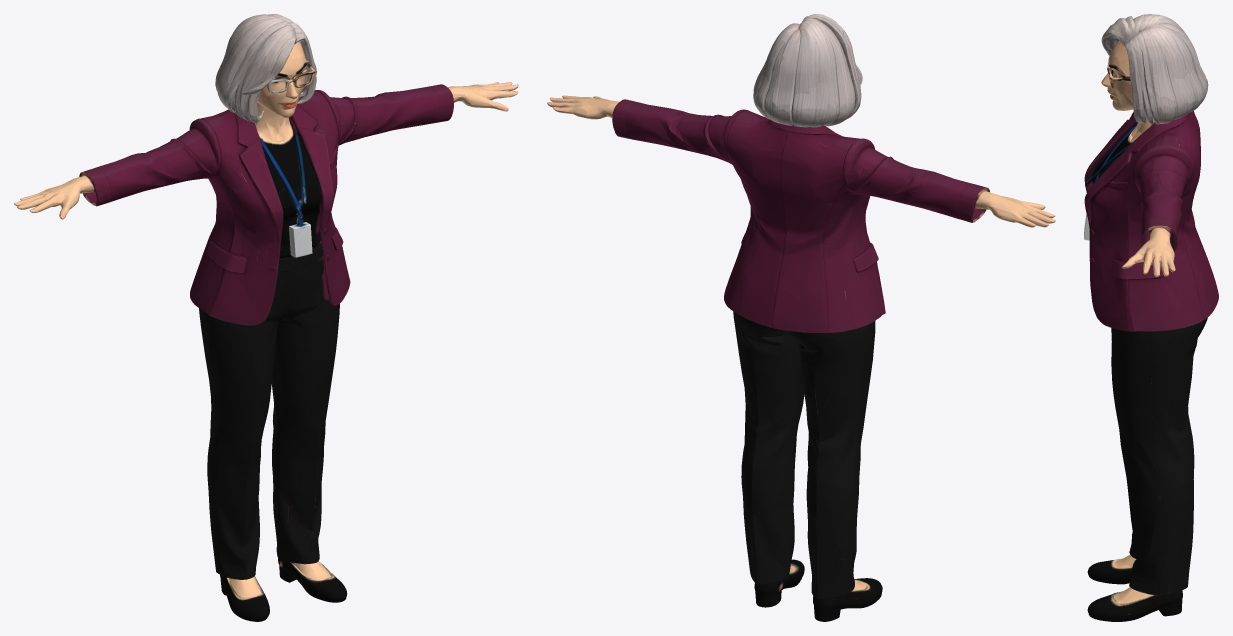
Rendered from ModuleLead_Meshy71_v001.glb.
The picture shows the model from 3 angles, left to right: view 1: azimuth 30°, elevation 25°; view 2: azimuth 150°, elevation 25°; view 3: azimuth 270°, elevation 25°; orthographic projection.
Size of the model in its own units: 1.73 by 1.9 by 0.4022.
1 material, 1 textured.
